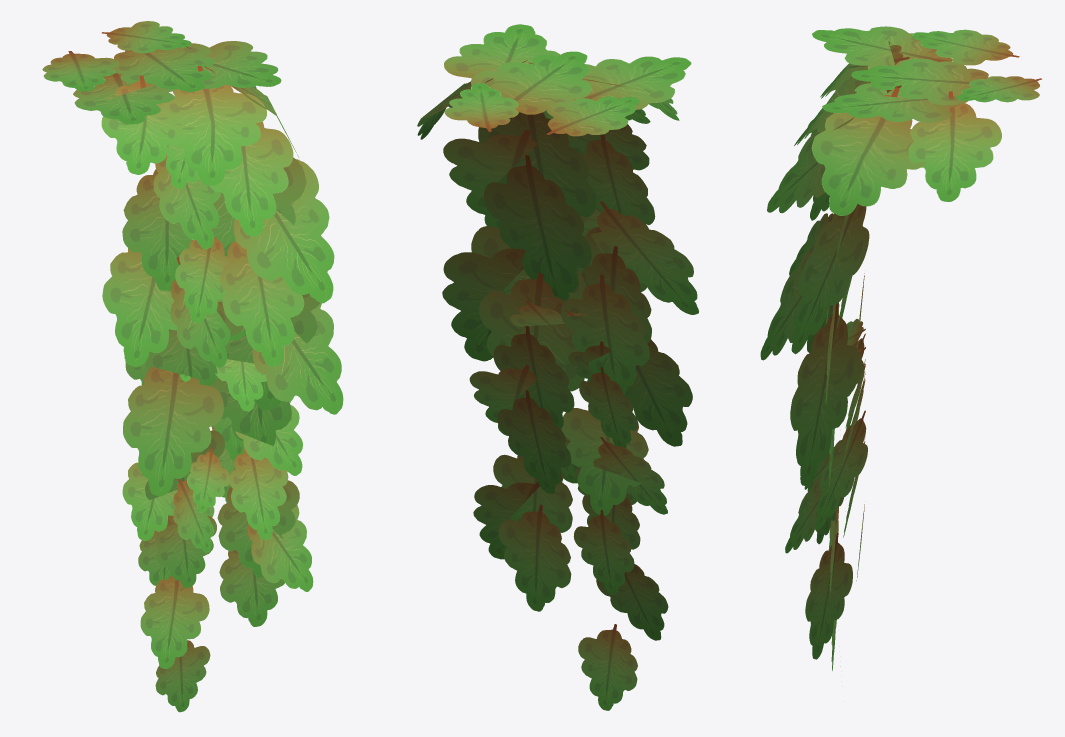
Rendered from Ivy_angle.fbx.
3 views of the same model, side by side, from view 1: azimuth 30°, elevation 25°; view 2: azimuth 150°, elevation 25°; view 3: azimuth 270°, elevation 25° (orthographic). The views are drawn at different scales.
Parts seen in each view (by area): view 1: Ivy_Angle; view 2: Ivy_Angle; view 3: Ivy_Angle.
Boxes of the visible parts, x1,y1,x2,y2 form: Ivy_Angle: [42, 21, 343, 712]; Ivy_Angle: [417, 24, 698, 710]; Ivy_Angle: [760, 26, 1041, 670].
Size of the model in its own units: 0.9616 by 1.96 by 0.8069.
